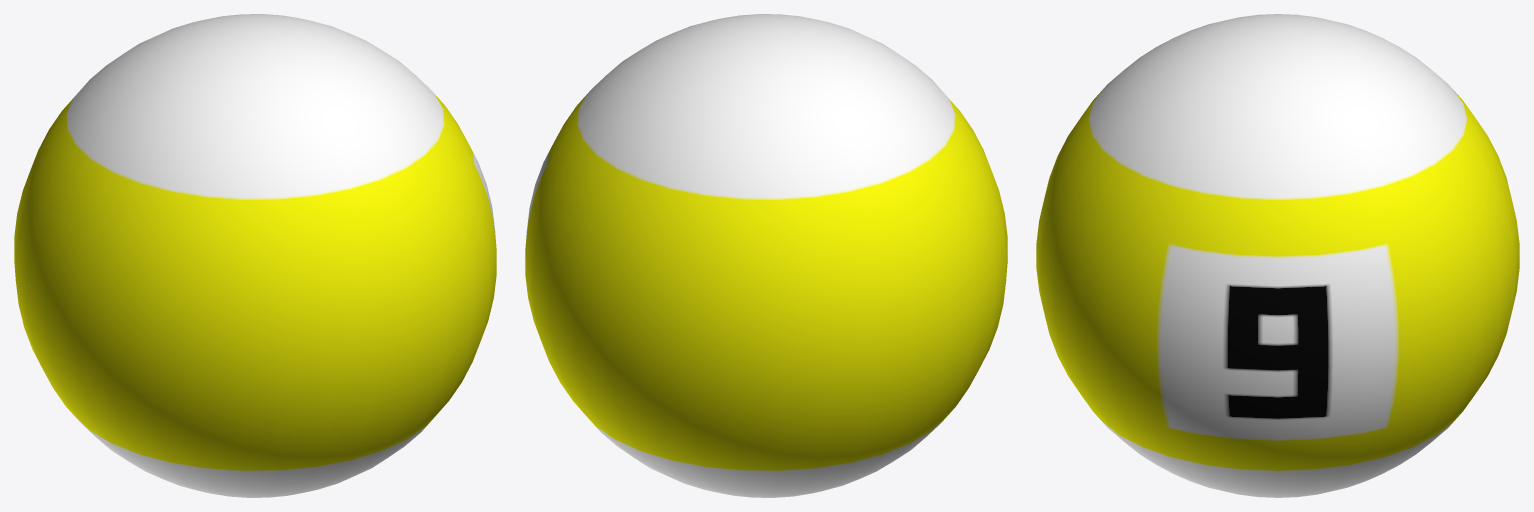
Rendered from textured_sphere_smooth9.obj.
3 renders of one model, left to right at view 1: azimuth 30°, elevation 25°; view 2: azimuth 150°, elevation 25°; view 3: azimuth 270°, elevation 25°, orthographic.
Parts seen in each view (by area): view 1: Sphere_Sphere.001; view 2: Sphere_Sphere.001; view 3: Sphere_Sphere.001.
Boxes of the visible parts, x1,y1,x2,y2 form: Sphere_Sphere.001: [14, 14, 496, 497]; Sphere_Sphere.001: [525, 14, 1007, 497]; Sphere_Sphere.001: [1036, 14, 1519, 497].
Bounding box in the file's own units: 2 × 2 × 2.
